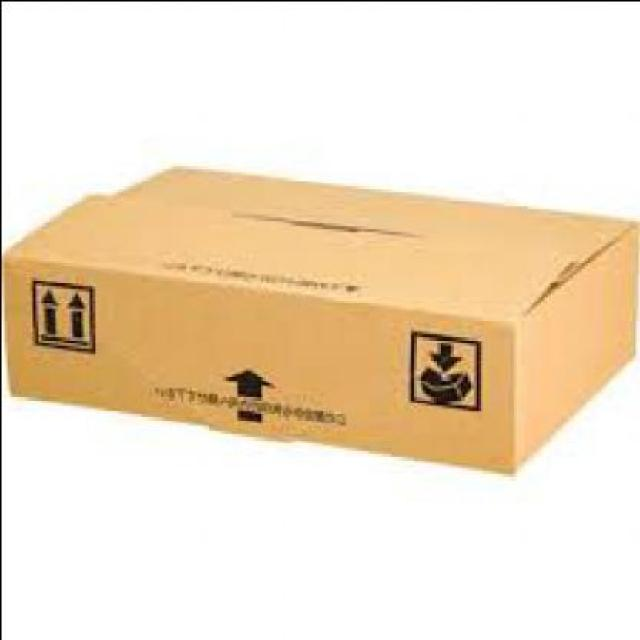CARDBOARD: (4, 162, 638, 470)
